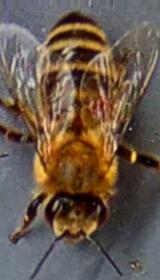varroa_mite: (87, 93, 113, 124)
